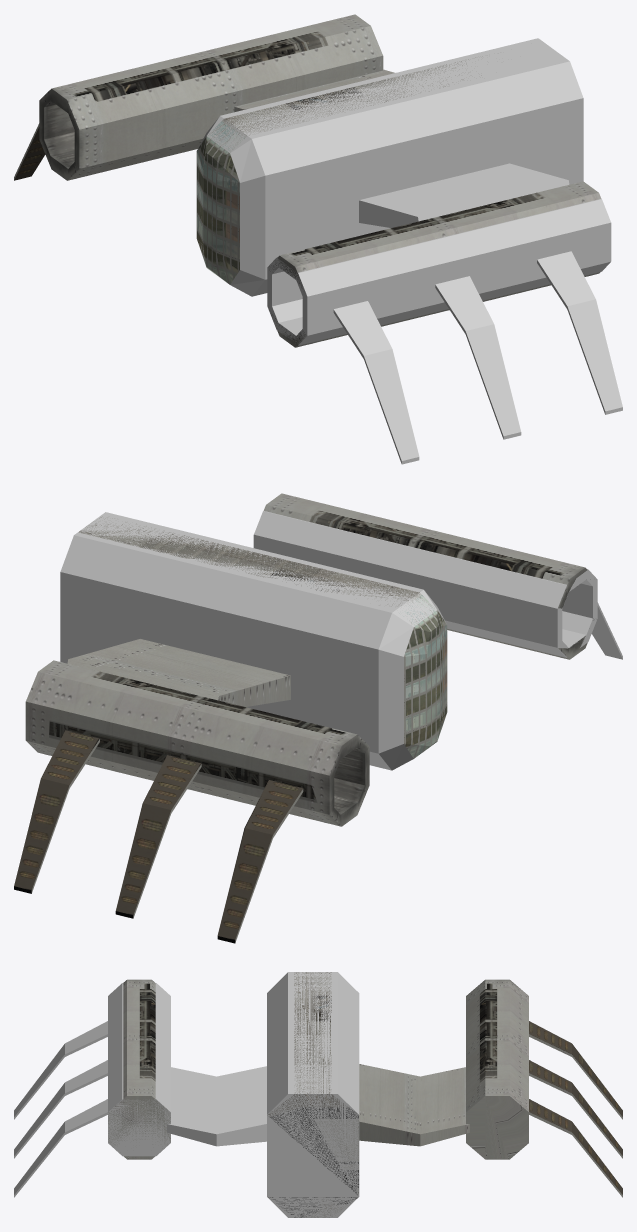
Rendered from jcShip2.obj.
3 renders of one model, top to bottom at view 1: azimuth 30°, elevation 25°; view 2: azimuth 150°, elevation 25°; view 3: azimuth 270°, elevation 25°, orthographic. The views are drawn at different scales.
Parts seen in each view (by area): view 1: Cube, merged (2), Cube (2), Cube (4), Cube (3); view 2: merged (2), Cube, Cube (2), Cube (4); view 3: merged (2), Cube, Cube (3), Cube (2), Cube (4).
Part boxes in pixels (<box>): Cube: <box>198,38,583,296</box>; merged (2): <box>14,14,601,347</box>; Cube (2): <box>267,198,611,345</box>; Cube (4): <box>333,251,622,464</box>; Cube (3): <box>359,163,569,227</box>; merged (2): <box>14,493,596,943</box>; Cube: <box>60,512,446,770</box>; Cube (2): <box>253,511,597,657</box>; Cube (4): <box>591,602,622,659</box>; merged (2): <box>108,972,622,1217</box>; Cube: <box>267,972,359,1217</box>; Cube (3): <box>167,1066,266,1146</box>; Cube (2): <box>108,983,170,1156</box>; Cube (4): <box>14,1021,107,1197</box>.
Bounding box in the file's own units: 2.5 × 1.22 × 4.45.
